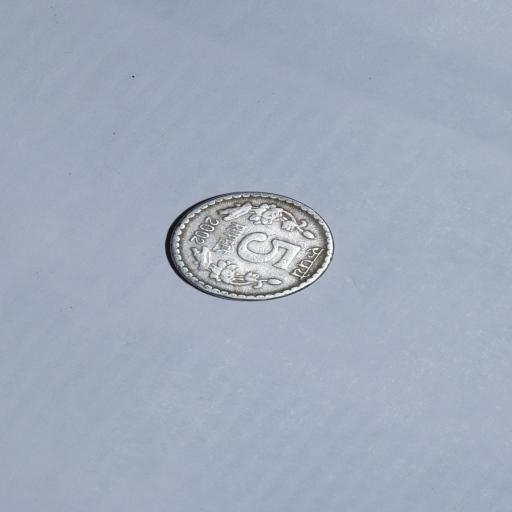rupee5: (162, 191, 336, 303)
